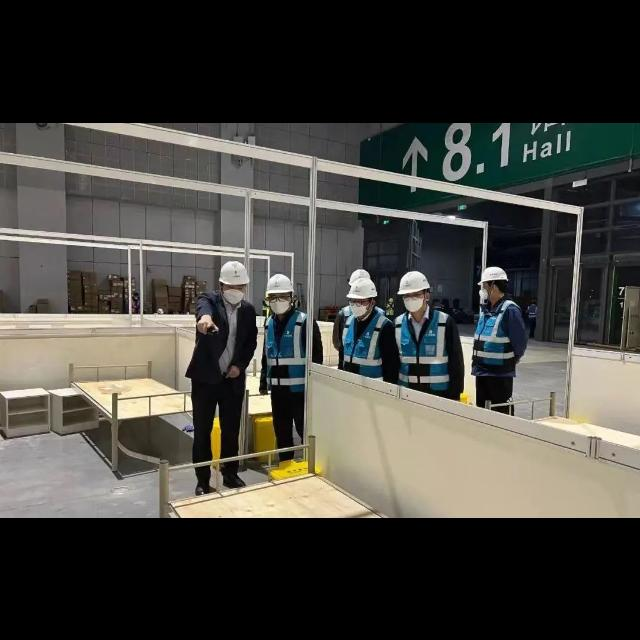masks: (348, 302, 368, 320), (224, 290, 244, 304), (269, 299, 289, 313), (402, 298, 422, 312)
